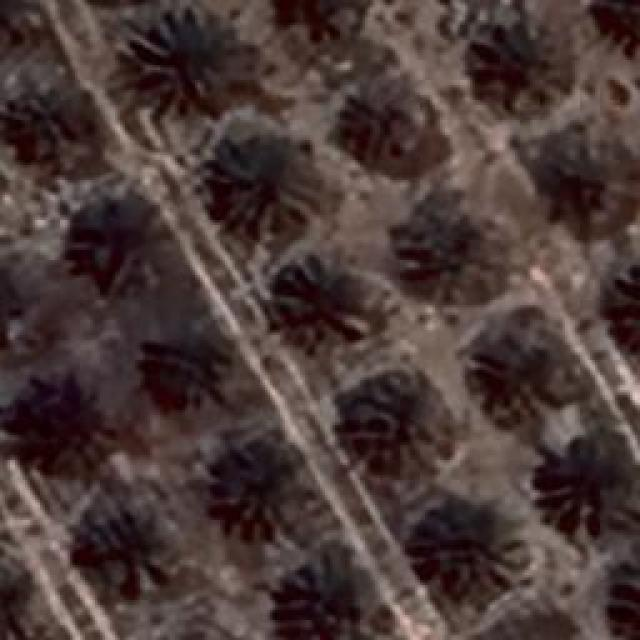PalmTree: (212, 132, 320, 232), (329, 375, 439, 463), (402, 200, 498, 298), (147, 22, 250, 106), (414, 508, 506, 596), (220, 446, 312, 534), (78, 499, 174, 579), (470, 329, 565, 409), (274, 262, 368, 342), (144, 318, 224, 412), (340, 89, 432, 169), (550, 452, 640, 530), (75, 196, 155, 282), (2, 382, 96, 452), (478, 21, 558, 99), (278, 568, 366, 638), (536, 142, 616, 216), (0, 71, 70, 154), (264, 0, 379, 47), (597, 260, 640, 358), (597, 542, 640, 640), (586, 0, 640, 57)
